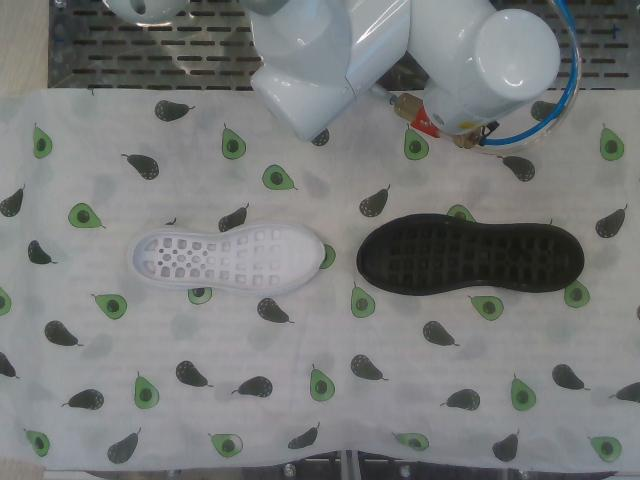shoes: (359, 223, 583, 289), (133, 226, 325, 291)
